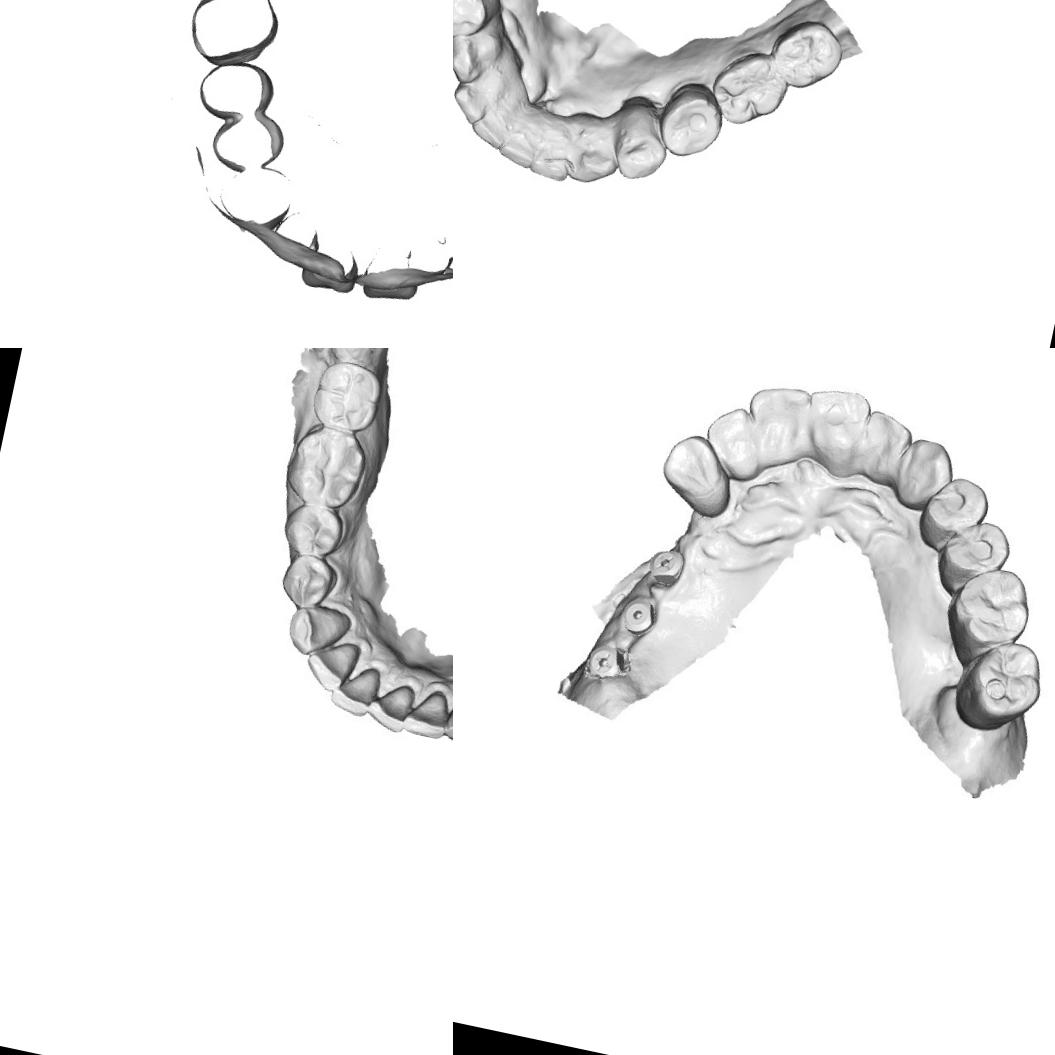canine: (652, 427, 743, 523), (887, 433, 960, 517), (282, 598, 350, 661), (568, 124, 626, 190), (453, 23, 500, 87)
implant: (618, 594, 661, 638)
implant_plus: (582, 638, 628, 684), (642, 543, 689, 588)
incisor: (796, 382, 876, 470), (737, 378, 815, 468), (697, 399, 770, 482), (853, 406, 918, 484), (530, 111, 584, 186), (302, 632, 365, 696), (498, 102, 554, 173), (332, 660, 388, 722), (469, 94, 522, 156), (399, 685, 453, 743), (368, 681, 414, 734), (453, 72, 496, 128)
molar: (948, 631, 1050, 742), (938, 558, 1038, 664), (702, 43, 798, 134), (286, 422, 370, 510), (766, 14, 849, 95), (310, 358, 384, 432)
premolar: (929, 512, 1016, 604), (912, 469, 996, 559), (657, 81, 729, 164), (614, 108, 676, 185), (276, 553, 345, 616), (286, 500, 346, 560), (453, 0, 494, 41)
